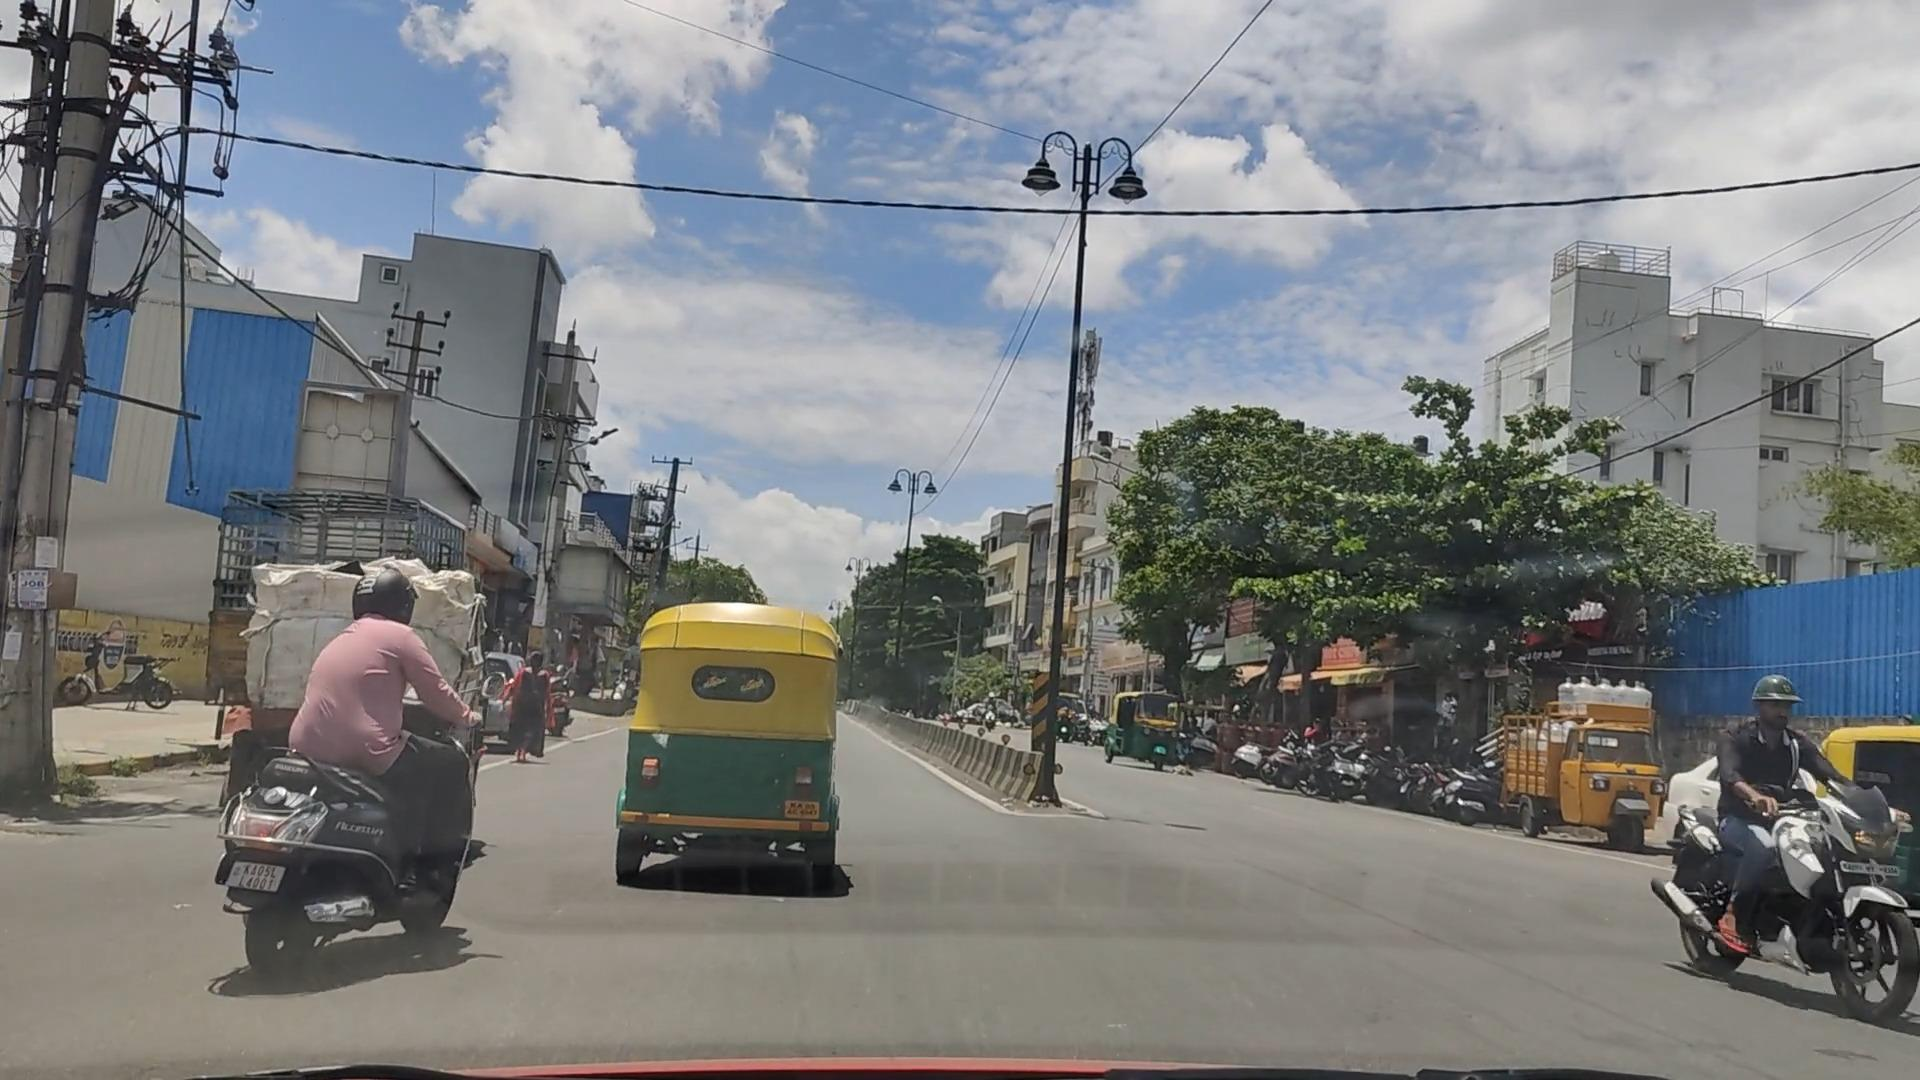LMV: (224, 571, 479, 968), (245, 553, 485, 808), (638, 613, 845, 898)
